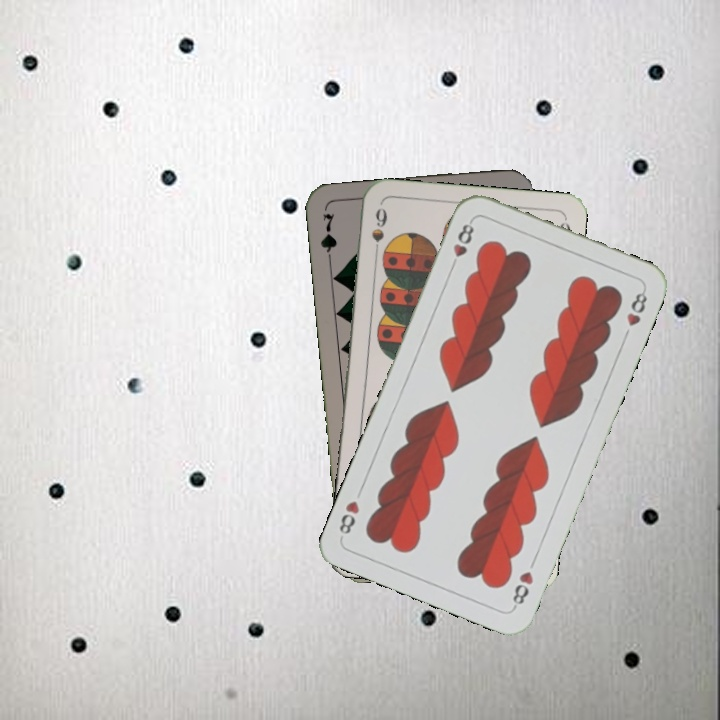G7: (316, 209, 340, 268)
H8: (446, 216, 477, 273), (508, 567, 536, 611)
S9: (368, 204, 390, 262)
